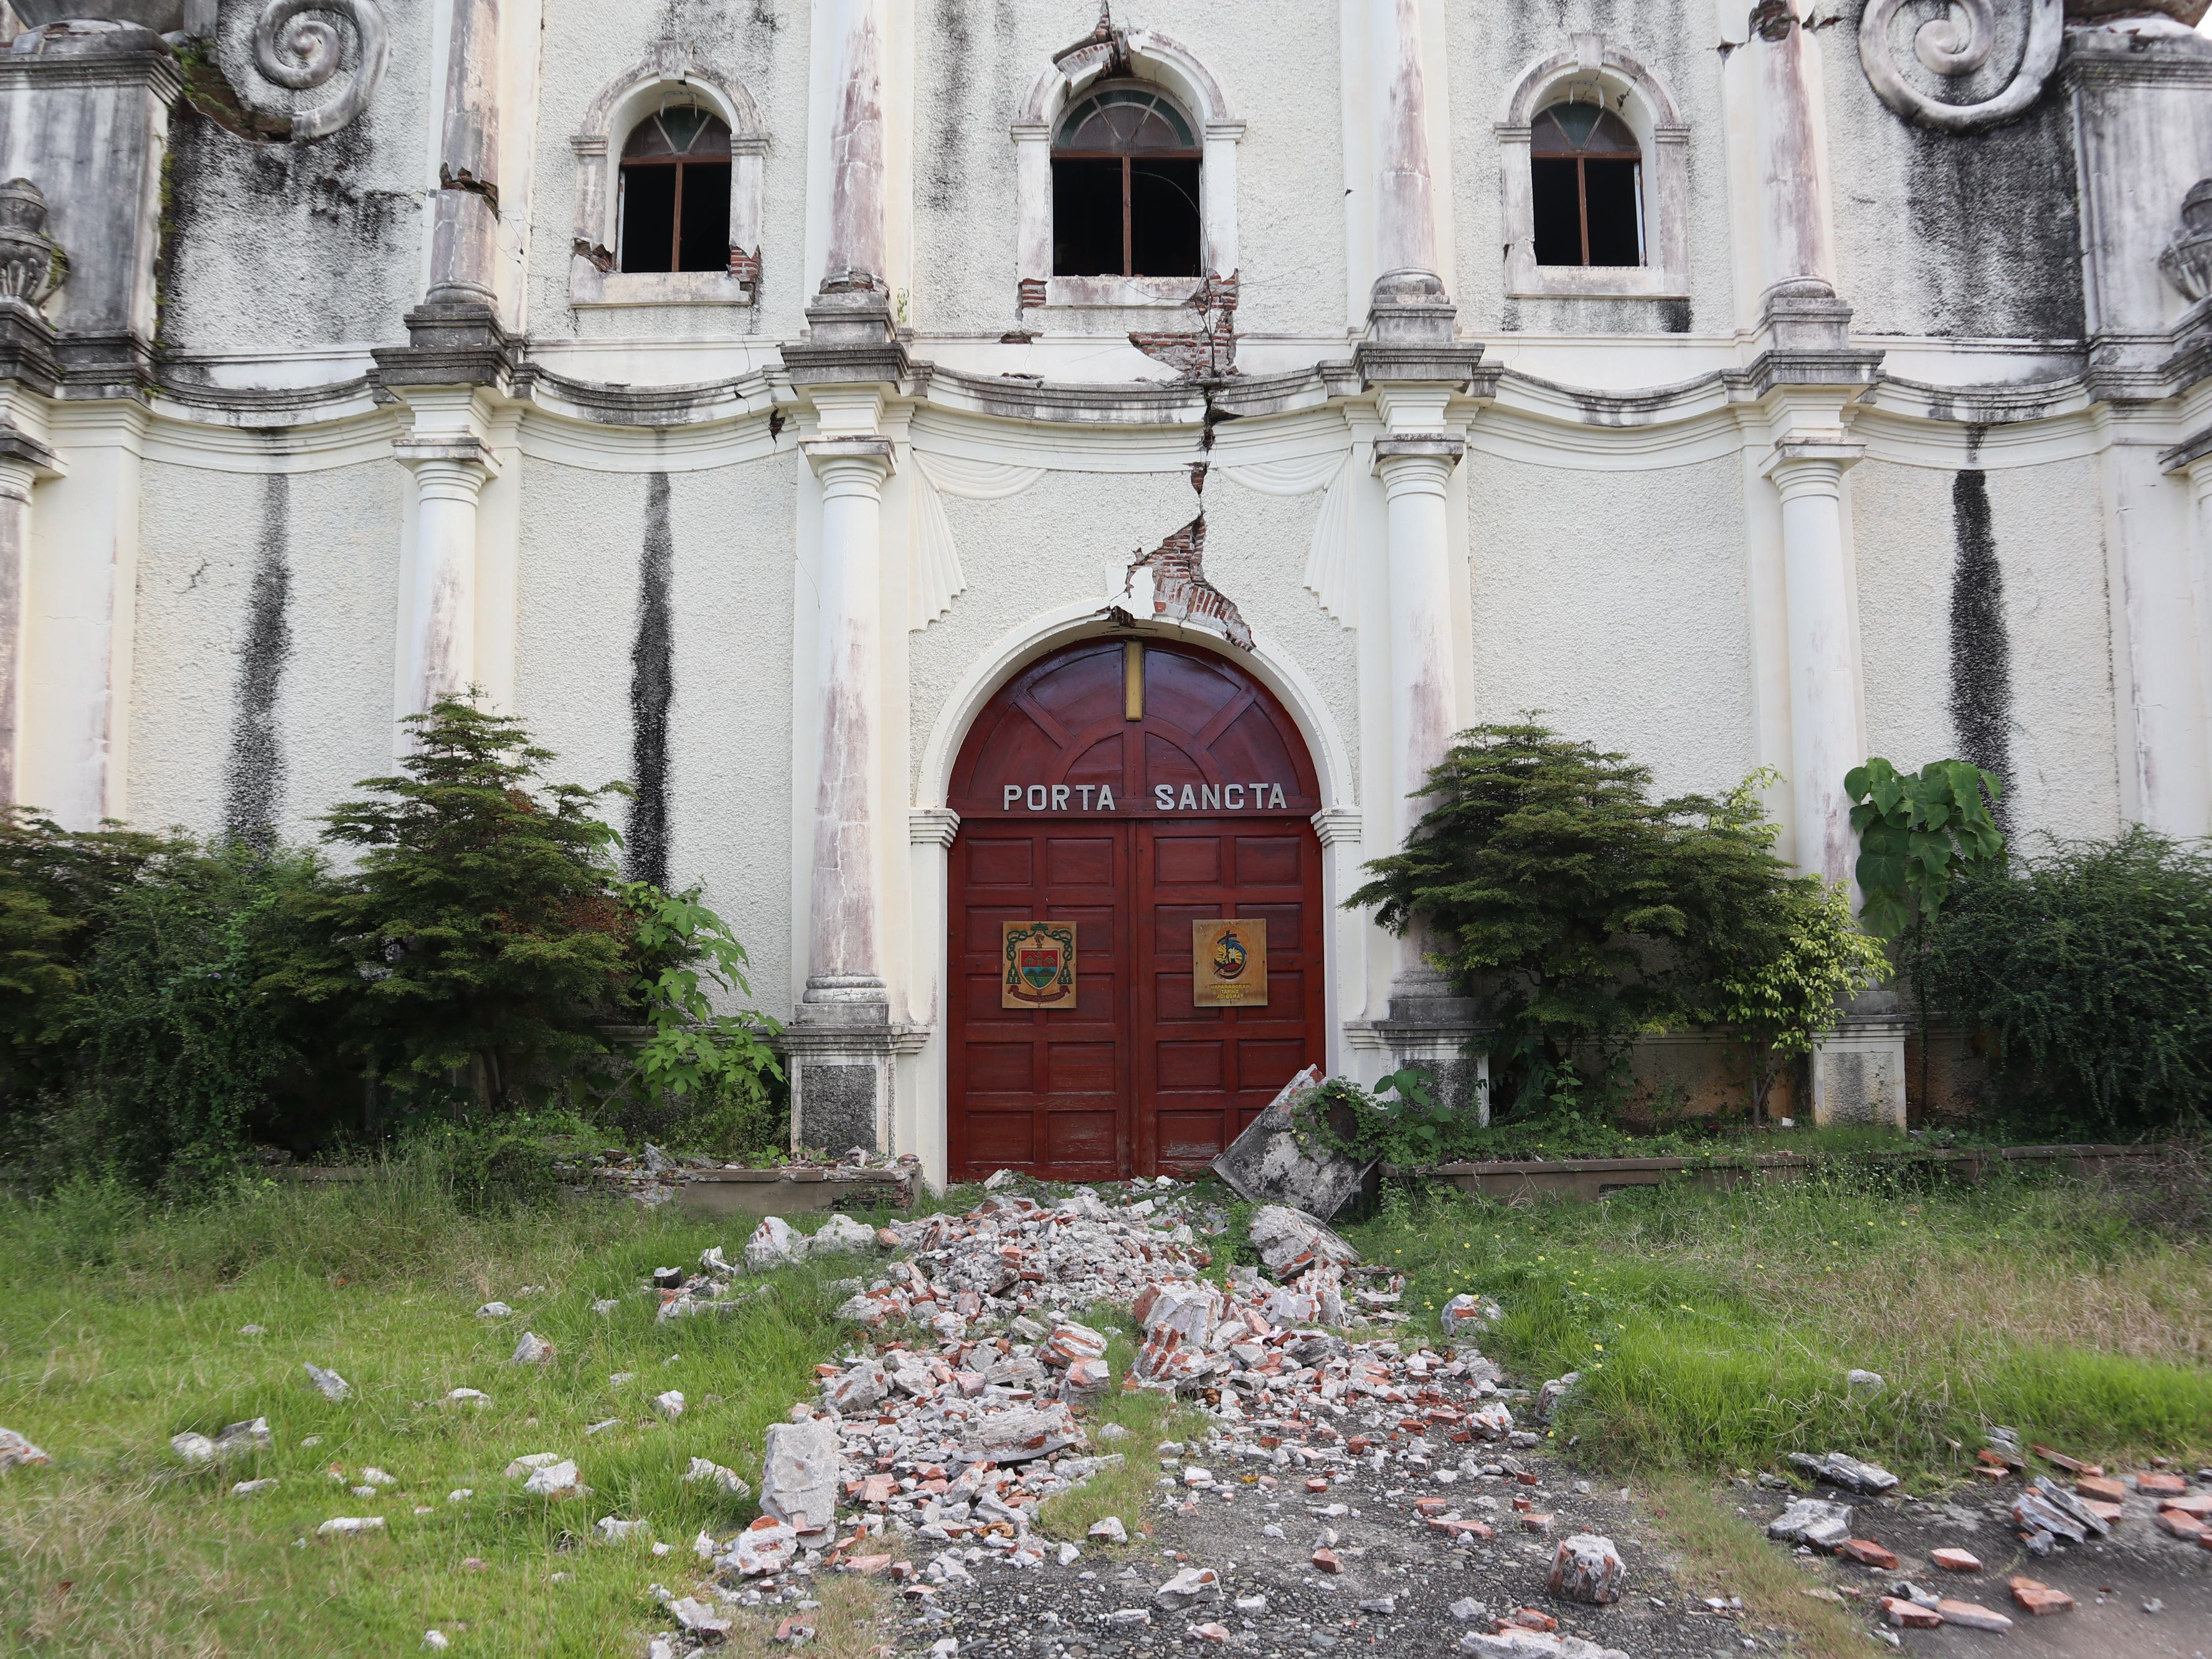crack: (1151, 308, 1251, 465), (1165, 484, 1256, 622)
